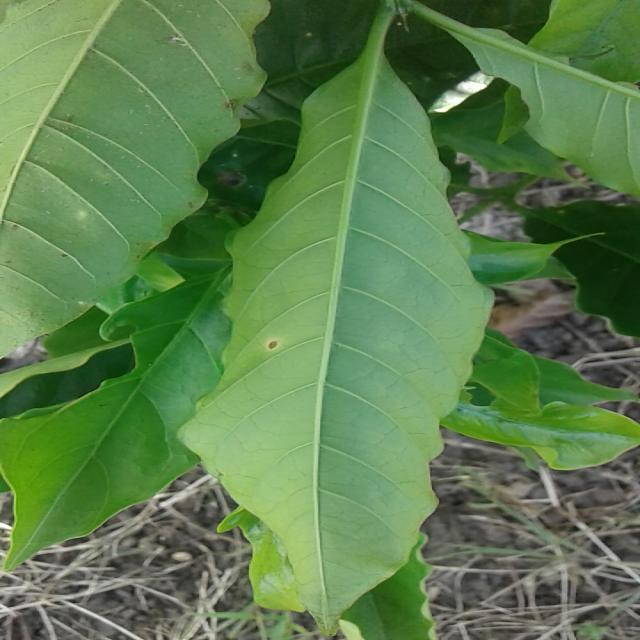Enfermedad-Roya: (176, 44, 495, 628)
